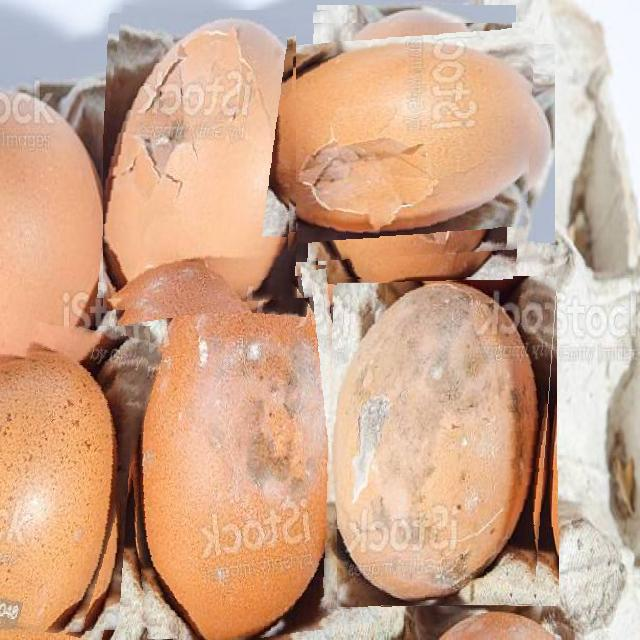biodegradable: (125, 257, 368, 640), (337, 277, 558, 607), (103, 10, 328, 312), (296, 23, 536, 264), (0, 326, 151, 636)
